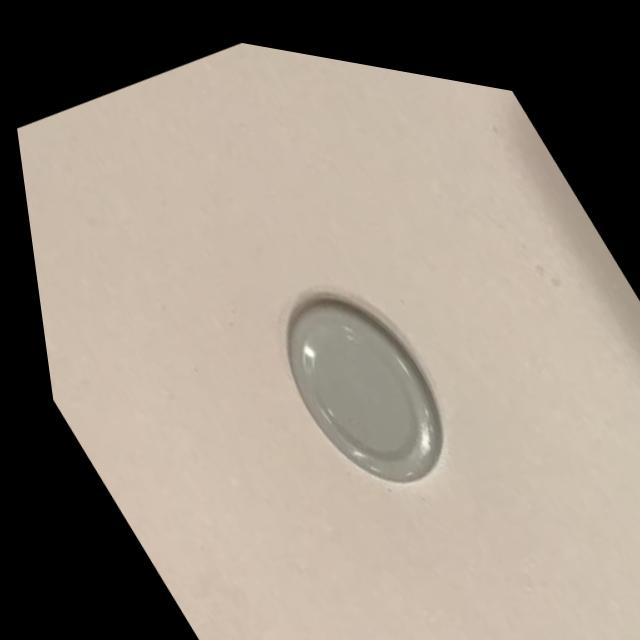metal: (200, 196, 532, 586)
